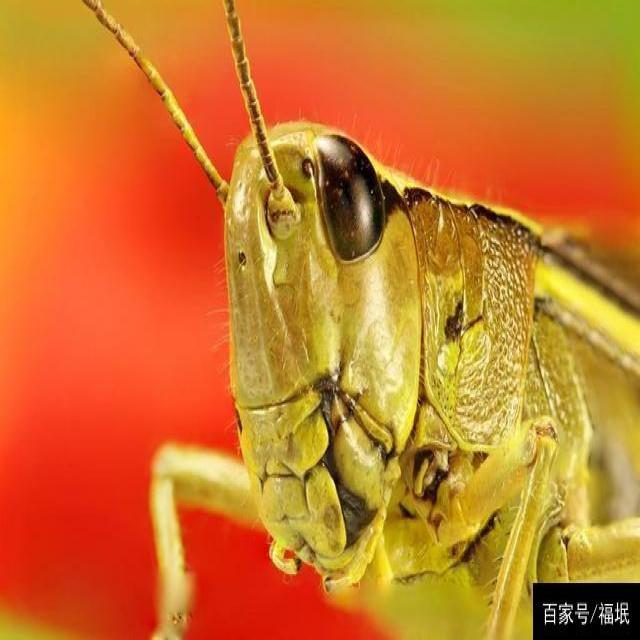ZhaMeng: (191, 82, 616, 579)
